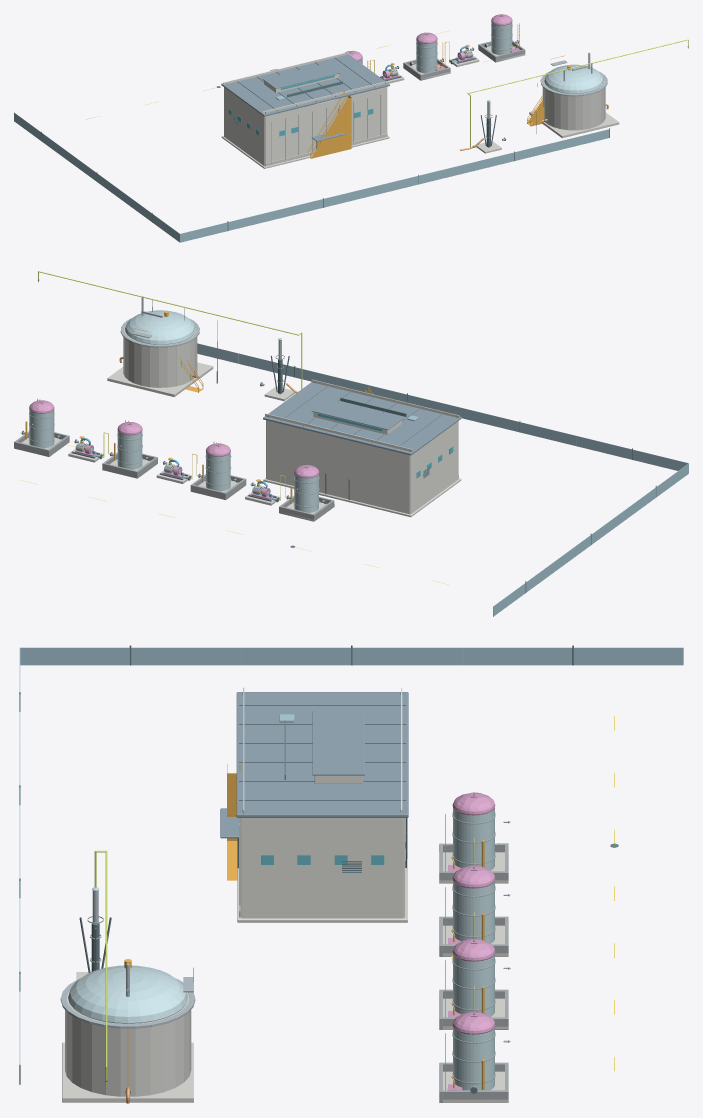
3 views of the same model, one above another, from view 1: azimuth 30°, elevation 25°; view 2: azimuth 150°, elevation 25°; view 3: azimuth 270°, elevation 25° (orthographic). The views are drawn at different scales.
Visible parts, largest first — view 1: render-batch-14, render-batch-5, render-batch-4, render-batch-10, render-batch-8, render-batch-15, render-batch-7, render-batch-6, render-batch-9, render-batch-0, render-batch-3, render-batch-11 (+1 smaller); view 2: render-batch-14, render-batch-5, render-batch-4, render-batch-10, render-batch-8, render-batch-6, render-batch-7, render-batch-9, render-batch-0, render-batch-3, render-batch-15, render-batch-11; view 3: render-batch-4, render-batch-14, render-batch-10, render-batch-8, render-batch-5, render-batch-9, render-batch-6, render-batch-7, render-batch-15, render-batch-3, render-batch-11, render-batch-0.
Boxes of the visible parts, box(x1,y1,x2,y2) form: render-batch-14: box(223, 52, 388, 166); render-batch-5: box(14, 95, 609, 242); render-batch-4: box(221, 54, 389, 141); render-batch-10: box(221, 46, 619, 168); render-batch-8: box(358, 22, 603, 101); render-batch-15: box(307, 23, 570, 158); render-batch-7: box(361, 24, 607, 140); render-batch-6: box(403, 40, 525, 80); render-batch-9: box(270, 14, 520, 79); render-batch-0: box(384, 15, 544, 147); render-batch-3: box(41, 46, 688, 230); render-batch-11: box(467, 39, 688, 147); render-batch-14: box(265, 379, 459, 514); render-batch-5: box(197, 343, 688, 616); render-batch-4: box(263, 382, 461, 455); render-batch-10: box(21, 325, 461, 521); render-batch-8: box(29, 310, 318, 512); render-batch-6: box(14, 431, 334, 521); render-batch-7: box(22, 296, 324, 507); render-batch-9: box(29, 400, 319, 499); render-batch-0: box(21, 355, 326, 504); render-batch-3: box(38, 279, 656, 592); render-batch-15: box(25, 311, 372, 503); render-batch-11: box(38, 271, 302, 393); render-batch-4: box(220, 692, 408, 838); render-batch-14: box(240, 687, 404, 918); render-batch-10: box(62, 818, 508, 1102); render-batch-8: box(68, 807, 494, 1090); render-batch-5: box(19, 647, 683, 1064); render-batch-9: box(447, 792, 495, 1090); render-batch-6: box(439, 843, 508, 1102); render-batch-7: box(60, 812, 508, 1087); render-batch-15: box(124, 763, 484, 1090); render-batch-3: box(19, 645, 618, 1084); render-batch-11: box(94, 850, 107, 1084); render-batch-0: box(79, 794, 510, 1093).
Bounding box in the file's own units: 113 × 12.97 × 61.49.
